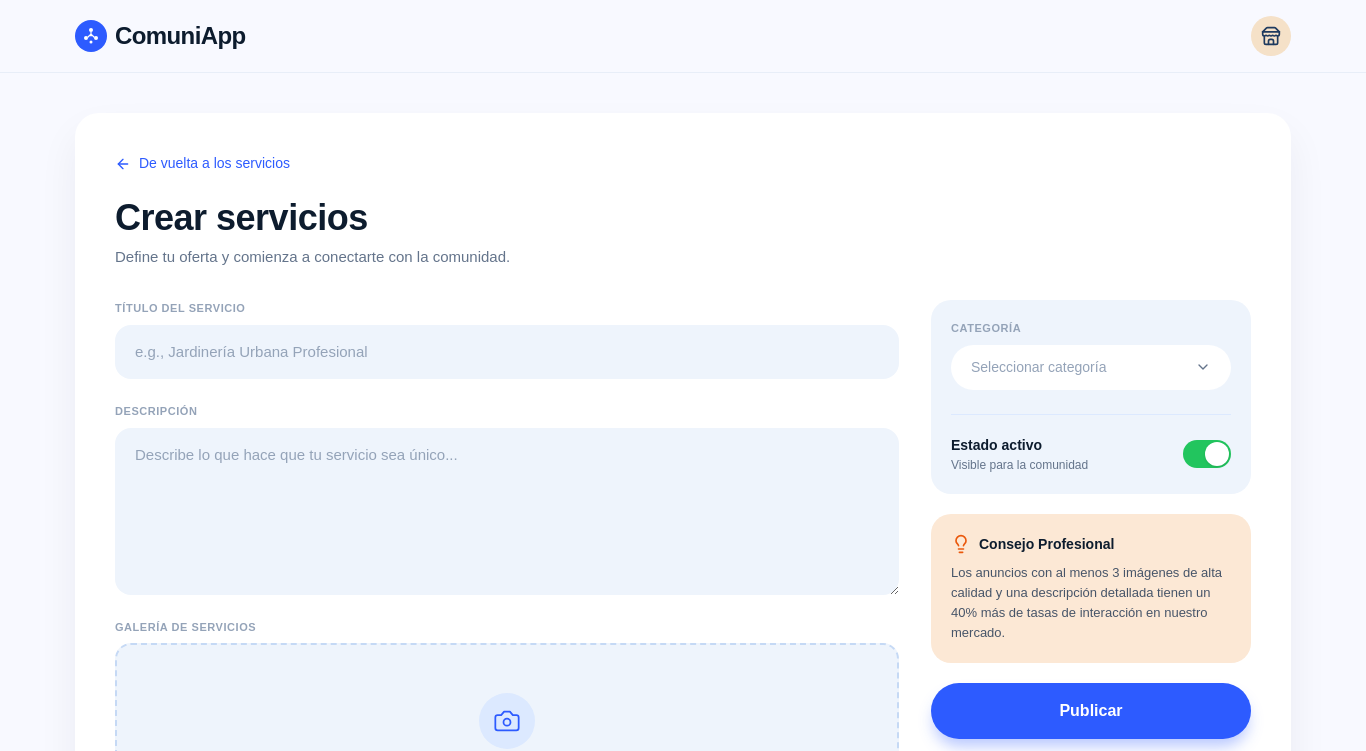
Test: EmprendedorCrearServicios › muestra errores de validación al publicar vacío
The width and height of the screenshot is (1366, 751).
Click the button "Publicar": (1091, 710) [931, 682, 1251, 738]
(page scrolled)
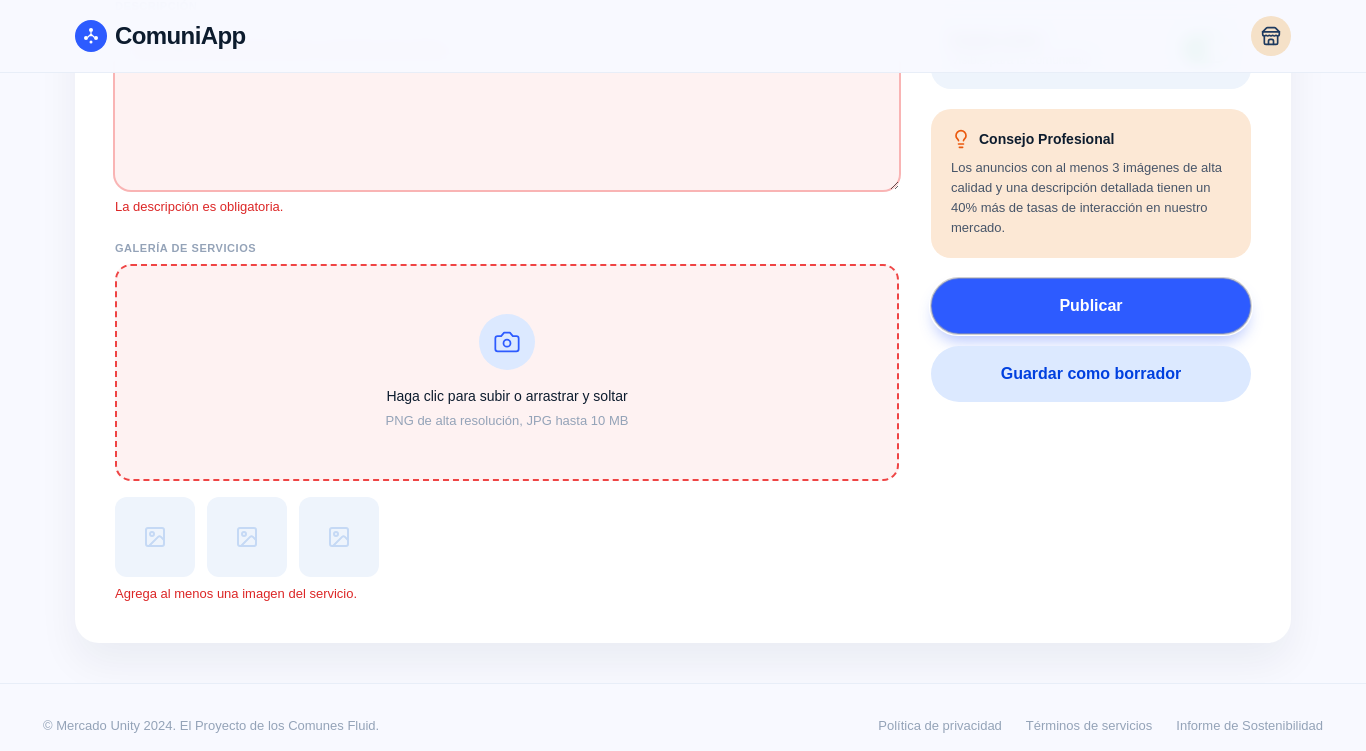
Now the text "La descripción es obligatoria." is shown, box [115, 198, 283, 214]
Now the text "Agrega al menos una imagen del servicio." is shown, box [115, 586, 357, 600]
